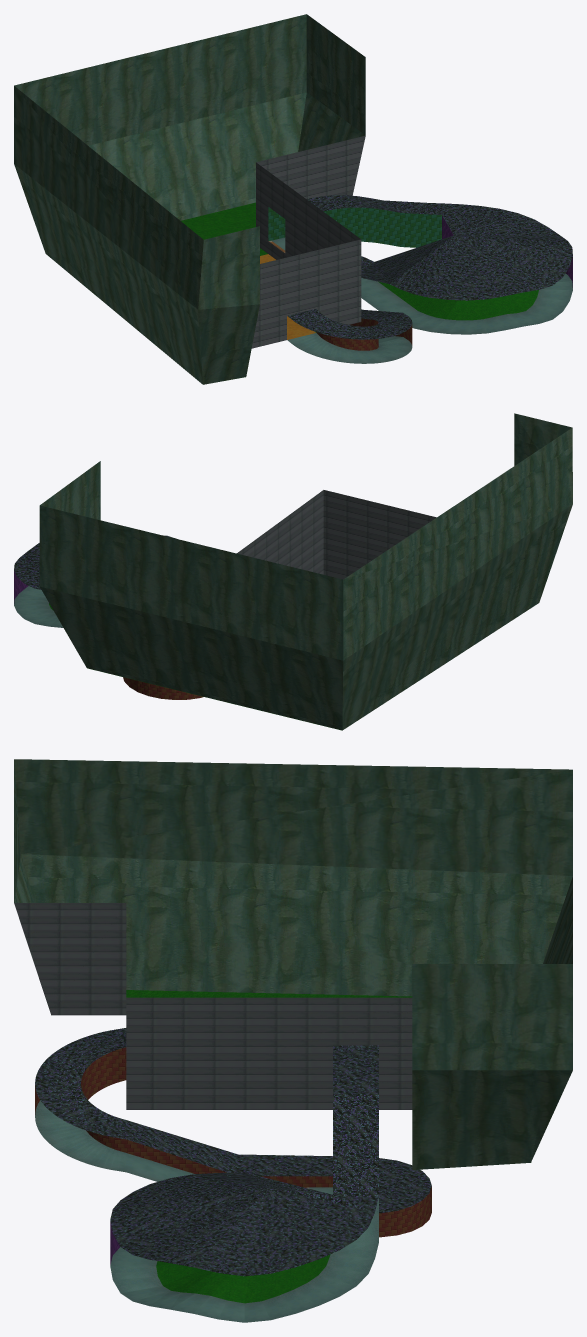
The picture shows the model from 3 angles, top to bottom: view 1: azimuth 30°, elevation 25°; view 2: azimuth 150°, elevation 25°; view 3: azimuth 270°, elevation 25°; orthographic projection. The views are drawn at different scales.
Parts seen in each view (by area): view 1: v1_1-SKP--iwa, v1_1-SKP--doukutu_kabeedited, v1_1-SKP--bh_hashi02, v1_1-SKP--road_doukutu, v1_1-SKP--road_kiwa, v1_1-SKP--bh_brock_green043, v1_1-SKP--bh_brock_aka043; view 2: v1_1-SKP--iwa, v1_1-SKP--bh_hashi02, v1_1-SKP--road_doukutu, v1_1-SKP--doukutu_kabeedited, v1_1-SKP--bh_brock_aka043; view 3: v1_1-SKP--iwa, v1_1-SKP--bh_hashi02, v1_1-SKP--doukutu_kabeedited, v1_1-SKP--road_doukutu, v1_1-SKP--road_kiwa, v1_1-SKP--bh_brock_aka043.
Part boxes in pixels (x1,y1,x2,y2): v1_1-SKP--iwa: (14, 14, 365, 384); v1_1-SKP--doukutu_kabeedited: (287, 195, 572, 339); v1_1-SKP--bh_hashi02: (251, 135, 365, 348); v1_1-SKP--road_doukutu: (272, 237, 572, 363); v1_1-SKP--road_kiwa: (181, 202, 538, 380); v1_1-SKP--bh_brock_green043: (268, 207, 441, 247); v1_1-SKP--bh_brock_aka043: (316, 318, 412, 350); v1_1-SKP--iwa: (39, 413, 572, 730); v1_1-SKP--bh_hashi02: (237, 490, 436, 579); v1_1-SKP--road_doukutu: (14, 586, 63, 627); v1_1-SKP--doukutu_kabeedited: (14, 535, 176, 589); v1_1-SKP--bh_brock_aka043: (123, 677, 203, 699); v1_1-SKP--iwa: (14, 759, 572, 1169); v1_1-SKP--bh_hashi02: (14, 903, 412, 1109); v1_1-SKP--doukutu_kabeedited: (35, 1028, 431, 1276); v1_1-SKP--road_doukutu: (35, 1100, 378, 1322); v1_1-SKP--road_kiwa: (126, 990, 531, 1303); v1_1-SKP--bh_brock_aka043: (35, 1047, 431, 1237).
Bounding box in the file's own units: 58308 × 26555 × 46742.
12 materials, 12 textured.
